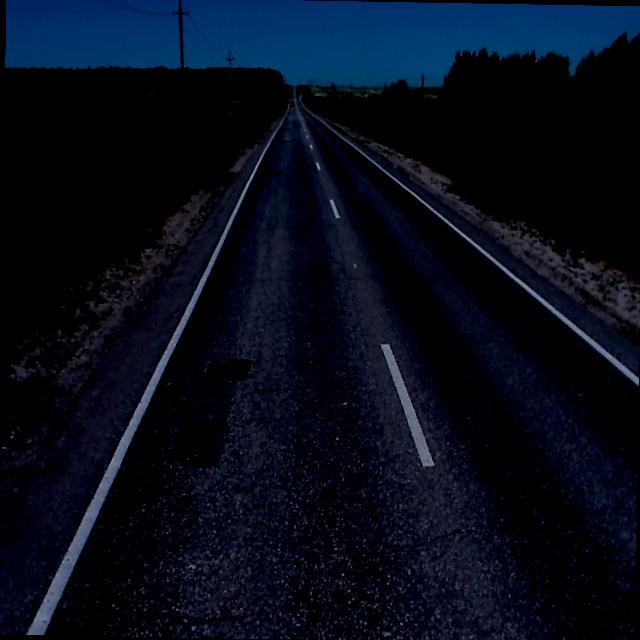road: (0, 86, 639, 640)
